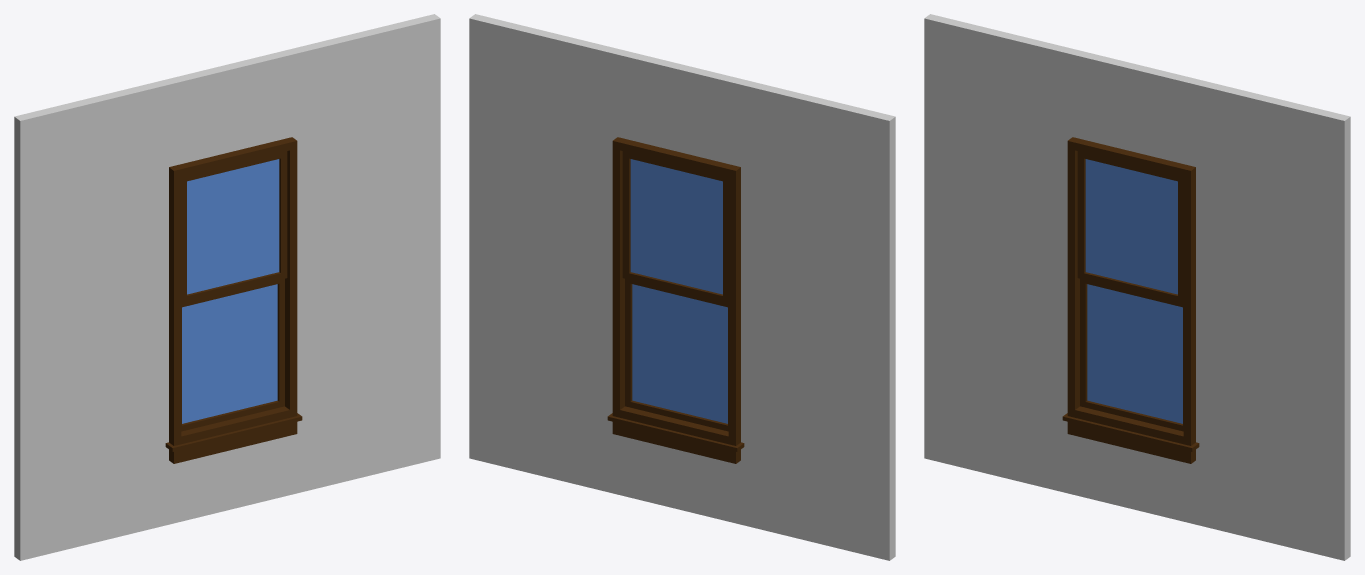
The model's file is window.fbx.
3 views of the same model, side by side, from view 1: azimuth 30°, elevation 25°; view 2: azimuth 150°, elevation 25°; view 3: azimuth 330°, elevation 25° (orthographic).
Parts seen in each view (by area): view 1: WallWindow; view 2: WallWindow; view 3: WallWindow.
Boxes of the visible parts, box(x1,y1,x2,y2) form: WallWindow: box(14, 14, 440, 560); WallWindow: box(469, 14, 895, 560); WallWindow: box(924, 14, 1350, 560).
Size of the model in its own units: 4 by 4 by 0.3291.
